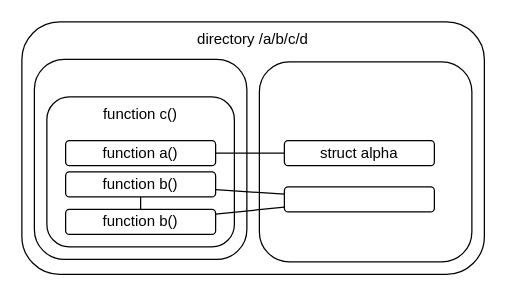
Image size: 506x296. Some labels were removed from this diagram. The box of each missing label's shape, as (x1, y1, x2, y2) in pixels:
file 1.c: (33, 58, 247, 259)
file 2.h: (258, 61, 472, 262)
struct beta: (283, 186, 434, 212)
